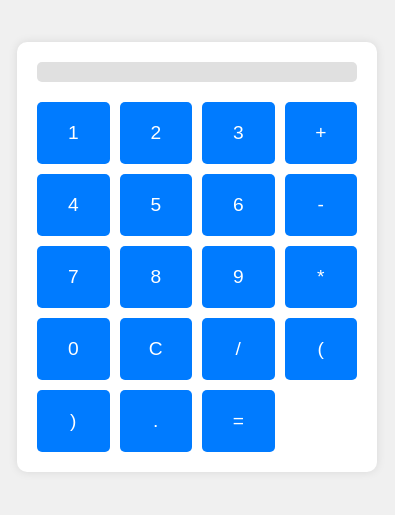
Scenario: multiplication with negative numbers
The image size is (395, 515).
Click the button "-": (321, 205) [284,174,357,236]
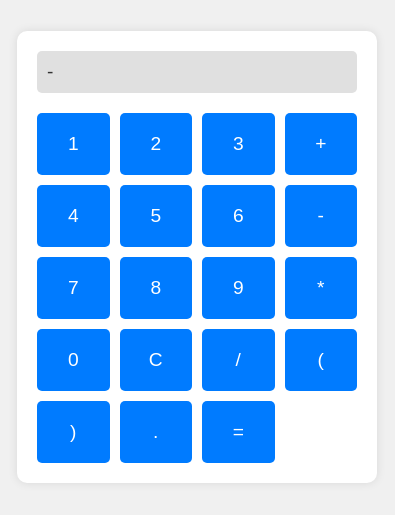
Click the button "2": (156, 144) [120,113,192,175]
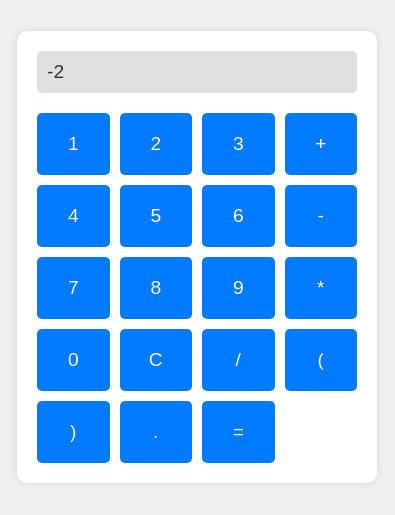
Click the button "*": (321, 288) [284,257,357,319]
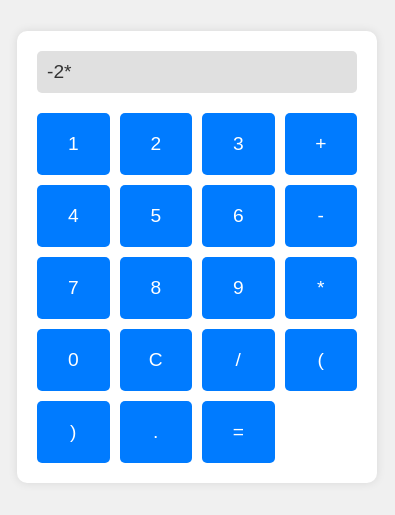
Click the button "-": (321, 216) [284,185,357,247]
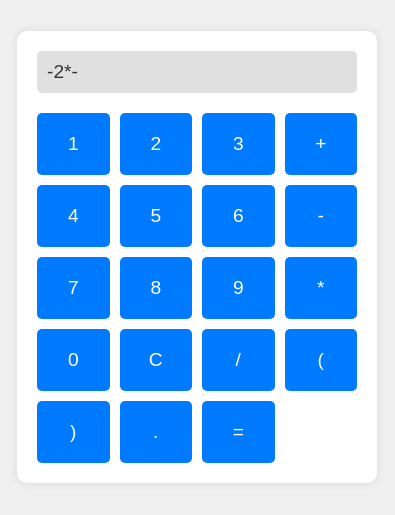
Click the button "2": (156, 144) [120,113,192,175]
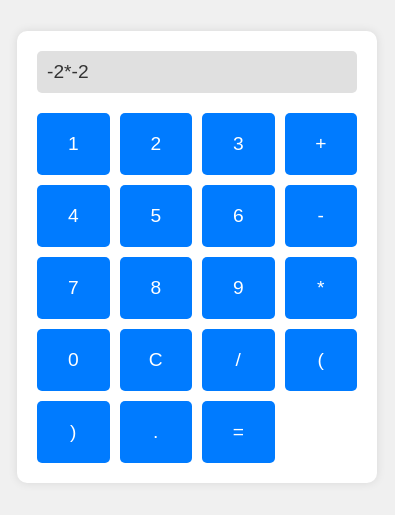
Click the button "=": (238, 432) [202,401,274,463]
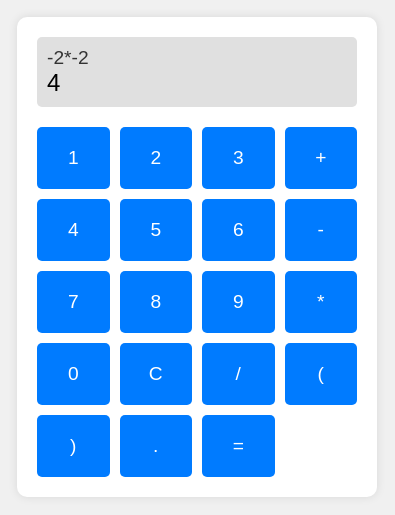
Result: the text with test id "calculator-result" reads "4" at [47,69,60,96]
